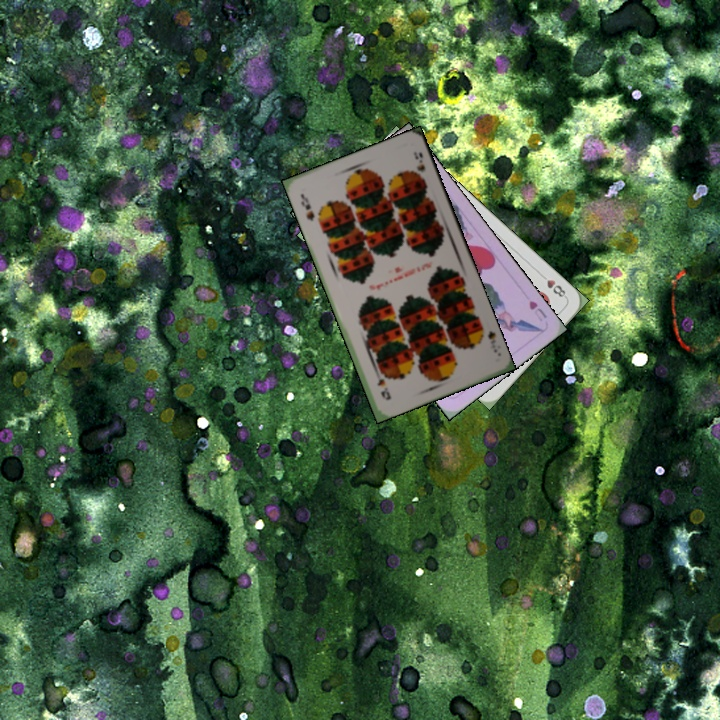H8: (536, 270, 569, 301)
HU: (525, 296, 549, 324)
S9: (296, 189, 317, 224), (484, 326, 500, 355)
